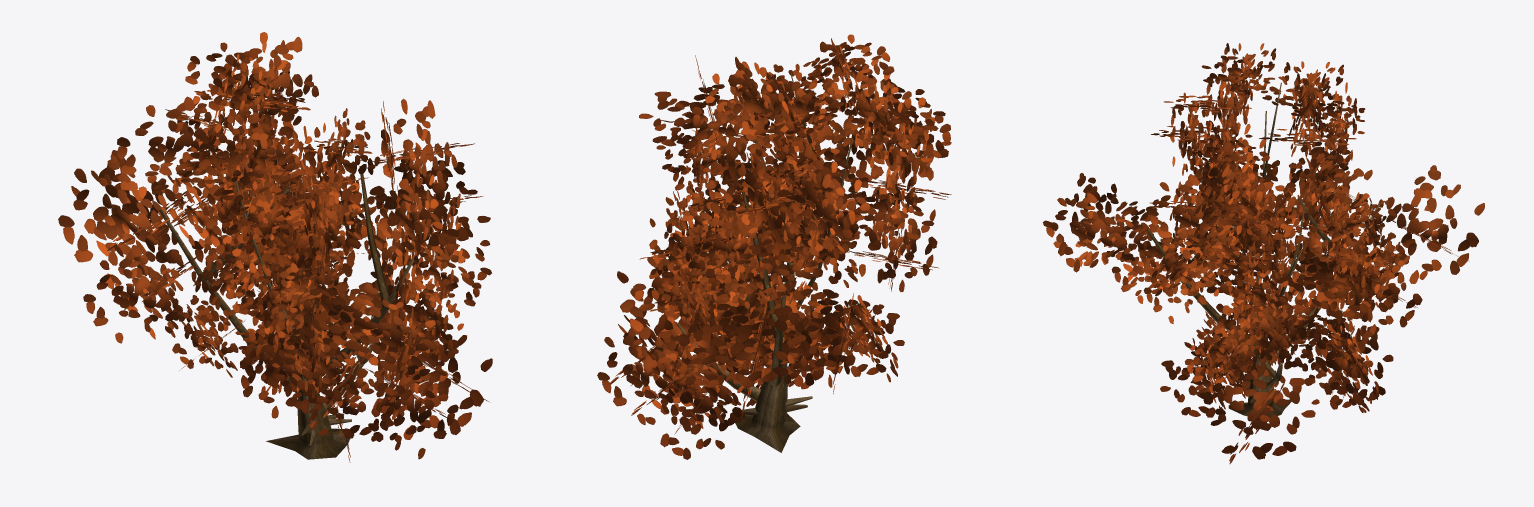
The model's file is env_tree_autumn_old_01.glb.
The picture shows the model from 3 angles, left to right: view 1: azimuth 30°, elevation 25°; view 2: azimuth 150°, elevation 25°; view 3: azimuth 270°, elevation 25°; orthographic projection. The views are drawn at different scales.
Parts seen in each view (by area): view 1: tree_autumn_old_01; view 2: tree_autumn_old_01; view 3: tree_autumn_old_01.
Part boxes in pixels (left/top/right/bottom): tree_autumn_old_01: left=58, top=32, right=492, bottom=462; tree_autumn_old_01: left=597, top=34, right=951, bottom=459; tree_autumn_old_01: left=1043, top=43, right=1484, bottom=463.
Bounding box in the file's own units: 12.1 × 13.54 × 15.81.
2 materials, 2 textured.
